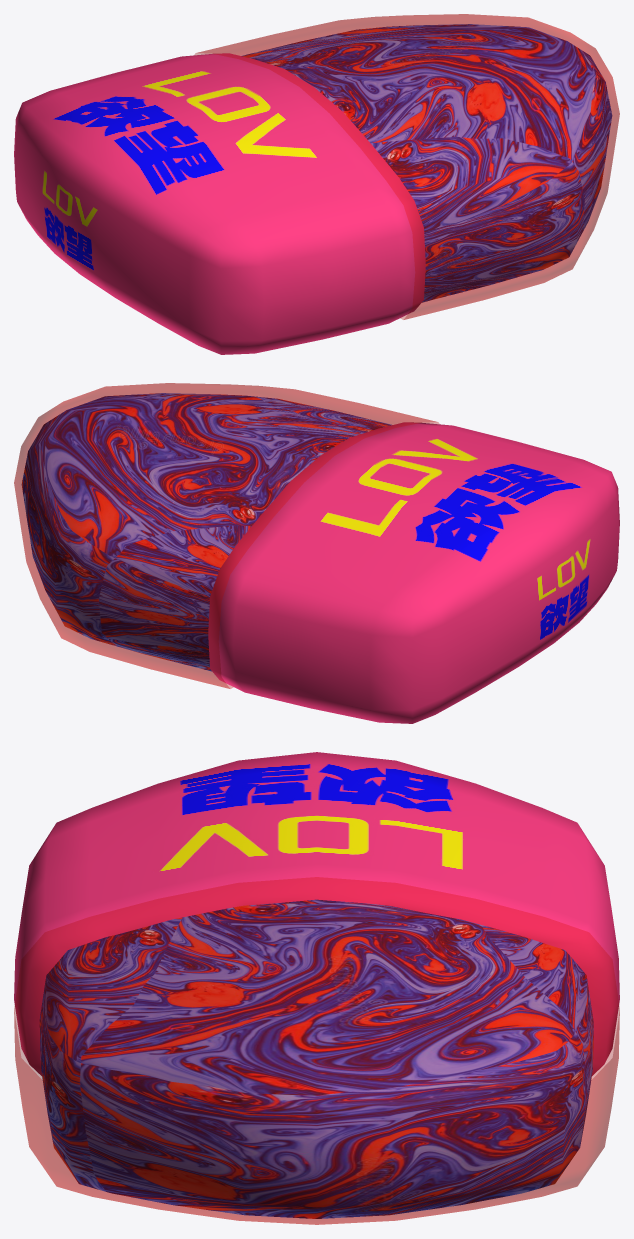
The model's file is LOV.gltf.
3 renders of one model, top to bottom at view 1: azimuth 30°, elevation 25°; view 2: azimuth 150°, elevation 25°; view 3: azimuth 270°, elevation 25°, orthographic. The views are drawn at different scales.
Visible parts, largest first — view 1: Cube, Cube.001, Cube.002; view 2: Cube, Cube.001, Cube.002; view 3: Cube.001, Cube.002, Cube.
Part boxes in pixels (x1,y1,x2,y2): Cube: [14, 53, 425, 354]; Cube.001: [195, 14, 619, 319]; Cube.002: [242, 24, 612, 302]; Cube: [208, 422, 619, 723]; Cube.001: [14, 383, 438, 688]; Cube.002: [21, 393, 391, 671]; Cube.001: [14, 877, 619, 1224]; Cube.002: [39, 899, 593, 1218]; Cube: [14, 752, 619, 1075].
Size of the model in its own units: 1.38 by 0.3901 by 1.02.
Materials: 3 (2 with a texture image).
